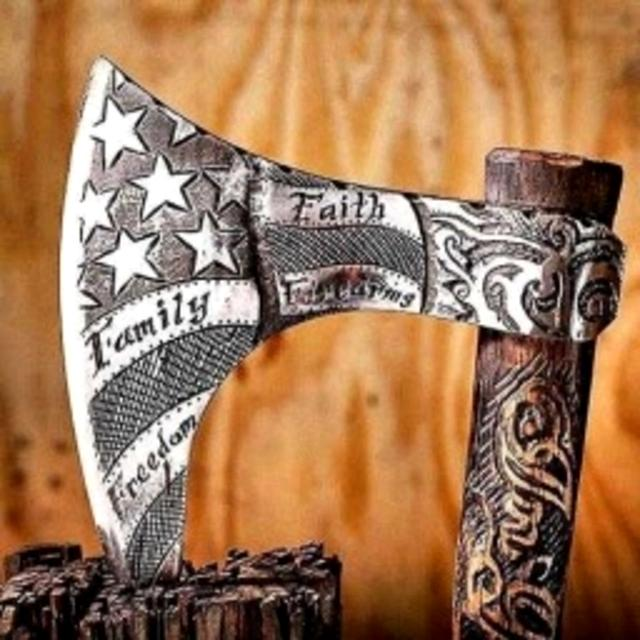ax: (54, 54, 640, 640)
